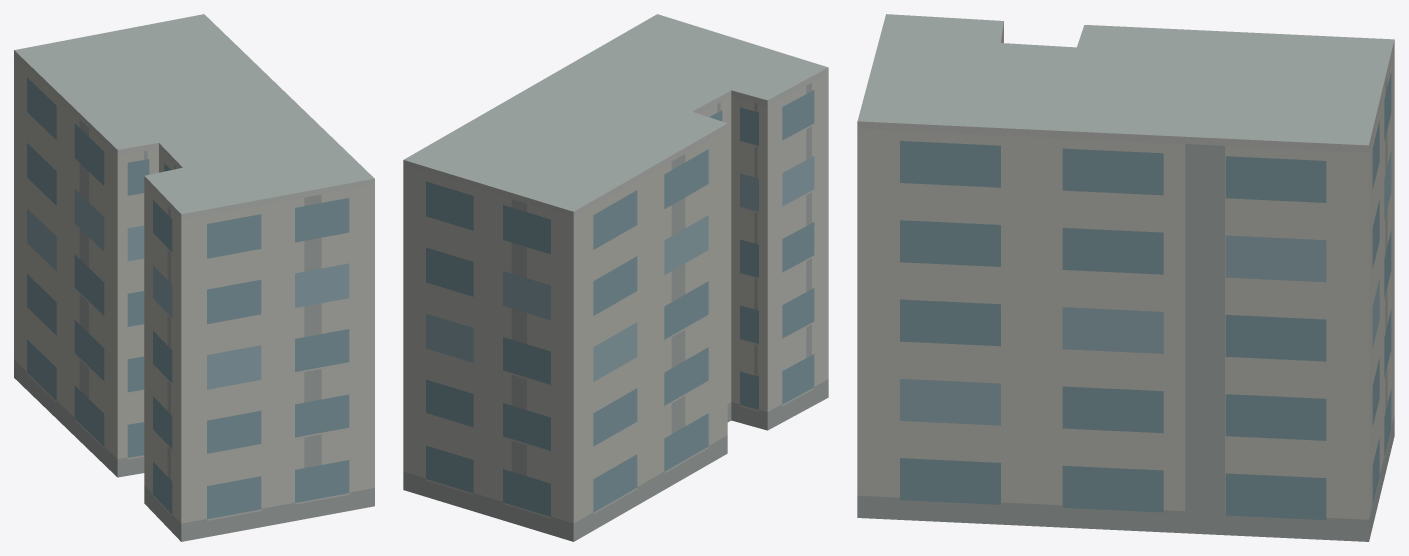
The model's file is survey-upis-32570947.glb.
The picture shows the model from 3 angles, left to right: view 1: azimuth 30°, elevation 25°; view 2: azimuth 150°, elevation 25°; view 3: azimuth 270°, elevation 25°; orthographic projection. The views are drawn at different scales.
Parts seen in each view (by area): view 1: survey-upis-32570947.tmp; view 2: survey-upis-32570947.tmp; view 3: survey-upis-32570947.tmp.
Part boxes in pixels (bbox=[...]): survey-upis-32570947.tmp: bbox=[14, 14, 374, 541]; survey-upis-32570947.tmp: bbox=[403, 14, 828, 541]; survey-upis-32570947.tmp: bbox=[857, 14, 1394, 541].
Size of the model in its own units: 9.39 by 13.2 by 16.21.
